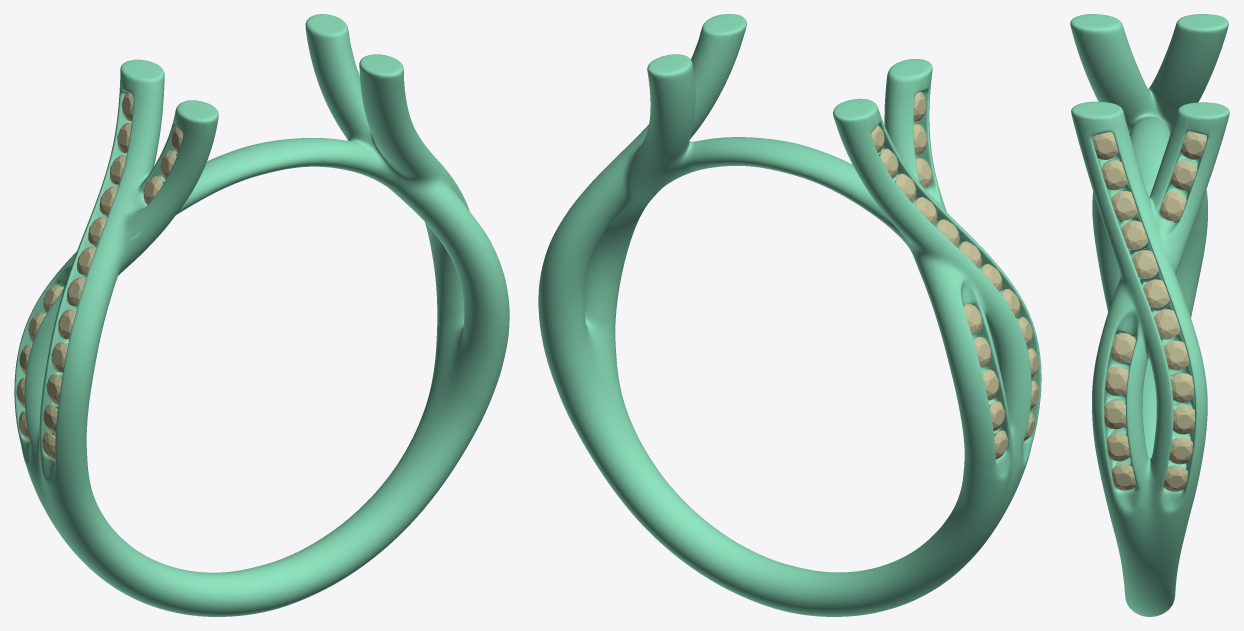
The picture shows the model from 3 angles, left to right: view 1: azimuth 30°, elevation 25°; view 2: azimuth 150°, elevation 25°; view 3: azimuth 270°, elevation 25°; orthographic projection. The views are drawn at different scales.
Visible parts, largest first — view 1: Metal02; view 2: Metal02; view 3: Metal02, Diamond_Gem.002, Diamond_Gem.004, Diamond_Gem.005, Diamond_Gem.001, Diamond_Gem.010, Diamond_Gem.009, Diamond_Gem.016, Diamond_Gem.015, Diamond_Gem.006, Diamond_Gem.011, Diamond_Gem.008 (+9 smaller).
Boxes of the visible parts, x1,y1,x2,y2 form: Metal02: [14, 14, 509, 616]; Metal02: [538, 14, 1041, 616]; Metal02: [1070, 14, 1229, 616]; Diamond_Gem.002: [1159, 191, 1186, 220]; Diamond_Gem.004: [1101, 160, 1127, 190]; Diamond_Gem.005: [1111, 191, 1137, 220]; Diamond_Gem.001: [1170, 160, 1197, 189]; Diamond_Gem.010: [1163, 340, 1189, 370]; Diamond_Gem.009: [1153, 309, 1180, 338]; Diamond_Gem.016: [1105, 366, 1128, 395]; Diamond_Gem.015: [1110, 333, 1135, 362]; Diamond_Gem.006: [1121, 220, 1148, 249]; Diamond_Gem.011: [1170, 373, 1194, 402]; Diamond_Gem.008: [1143, 279, 1169, 308].
Bounding box in the file's own units: 21 × 23.57 × 6.45.
